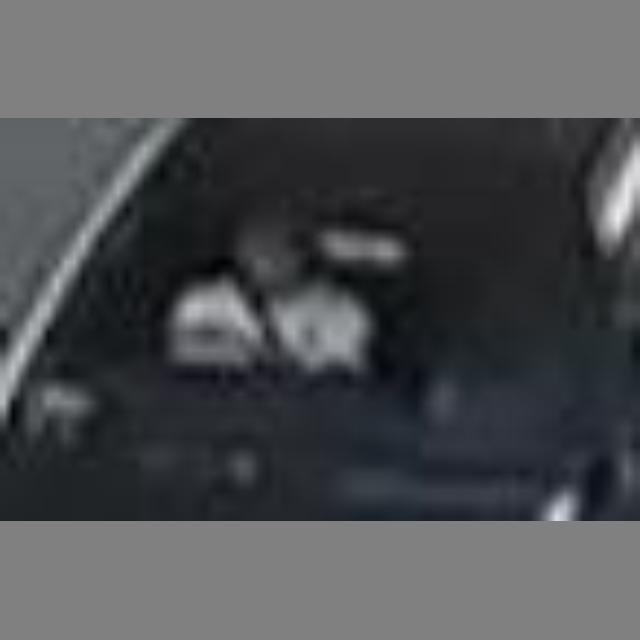pakai: (140, 241, 430, 390)
